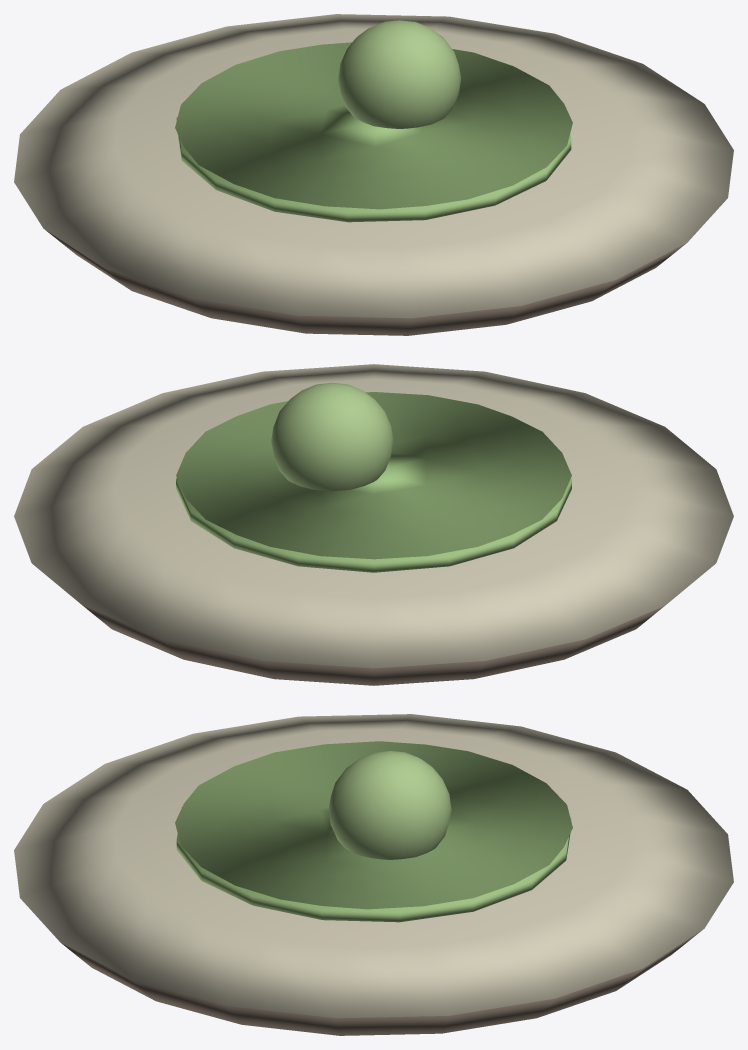
File: terrain_island_06.glb
3 renders of one model, top to bottom at view 1: azimuth 30°, elevation 25°; view 2: azimuth 150°, elevation 25°; view 3: azimuth 270°, elevation 25°, orthographic.
Visible parts, largest first — view 1: island_sand, island_grass_dome, hill0, island_base, island_grass_base; view 2: island_sand, island_grass_dome, hill0, island_base, island_grass_base; view 3: island_sand, island_grass_dome, hill0, island_base, island_grass_base.
Boxes of the visible parts, x1,y1,x2,y2 form: island_sand: [14, 14, 733, 318]; island_grass_dome: [175, 42, 572, 209]; hill0: [338, 20, 460, 128]; island_base: [45, 230, 686, 335]; island_grass_base: [176, 107, 571, 222]; island_sand: [14, 364, 733, 668]; island_grass_dome: [176, 392, 571, 559]; hill0: [271, 382, 393, 491]; island_base: [83, 606, 664, 685]; island_grass_base: [176, 478, 571, 572]; island_sand: [14, 714, 733, 1018]; island_grass_dome: [175, 741, 572, 909]; hill0: [328, 751, 451, 859]; island_base: [61, 930, 702, 1035]; island_grass_base: [176, 807, 571, 922].
Bounding box in the file's own units: 5.97 × 1.45 × 5.97.
